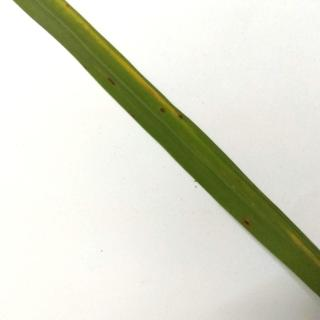bercak-Cokelat: (158, 102, 172, 120), (241, 212, 255, 230), (178, 112, 182, 126)
